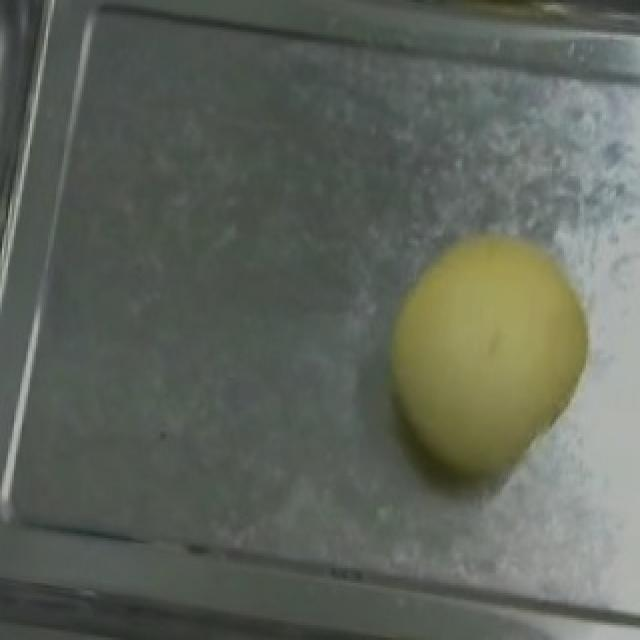Fruit: (366, 211, 610, 489)
